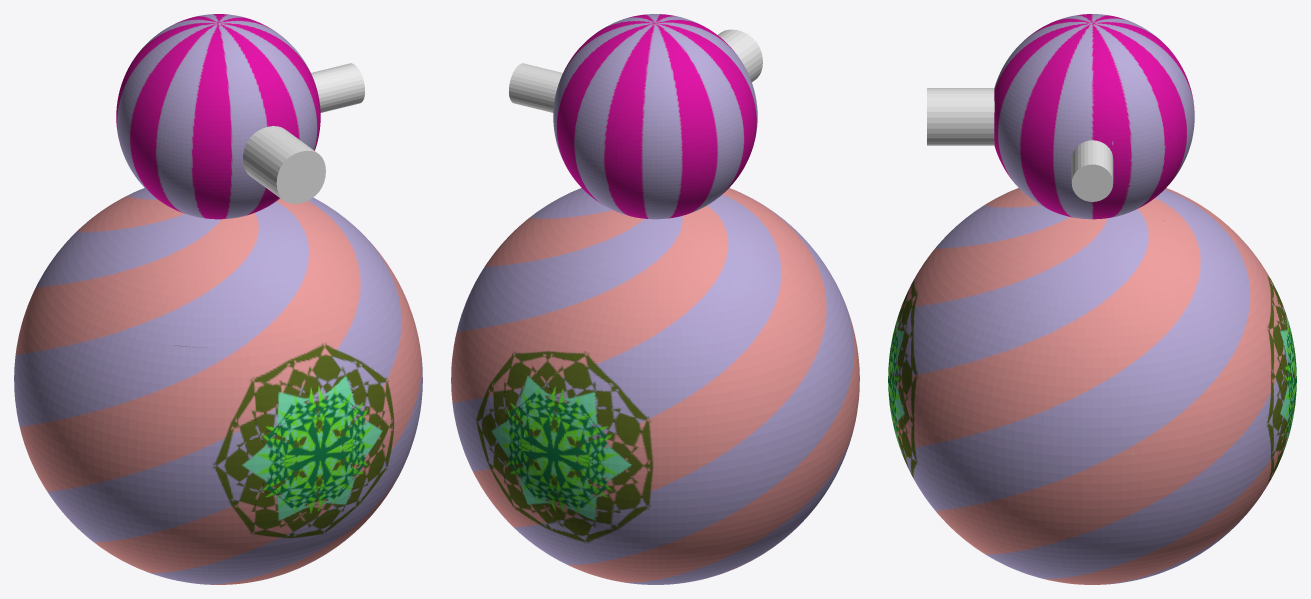
Rendered from BOD0_BMC16_BCC11_BPT3_FRC10_HEA0_HMC16_HCC10_HPT2_ELT0_ERT1_ELL2_ERL1_AP0_AAL1_AAR1_BEK1.fbx.
3 views of the same model, side by side, from view 1: azimuth 30°, elevation 25°; view 2: azimuth 150°, elevation 25°; view 3: azimuth 270°, elevation 25° (orthographic).
Visible parts, largest first — view 1: Body, Beak, Ear; view 2: Body, Ear, Beak; view 3: Body, Beak, Ear.
Boxes of the visible parts, box(x1,y1,x2,y2) form: Body: box(14, 14, 422, 584); Beak: box(243, 126, 325, 203); Ear: box(311, 63, 364, 112); Body: box(451, 14, 859, 584); Ear: box(509, 63, 562, 112); Beak: box(718, 29, 762, 81); Body: box(888, 14, 1296, 584); Beak: box(927, 88, 994, 145); Ear: box(1071, 140, 1113, 201).
Bounding box in the file's own units: 49.36 × 72.41 × 49.36.
Materials: 1 (1 with a texture image).
